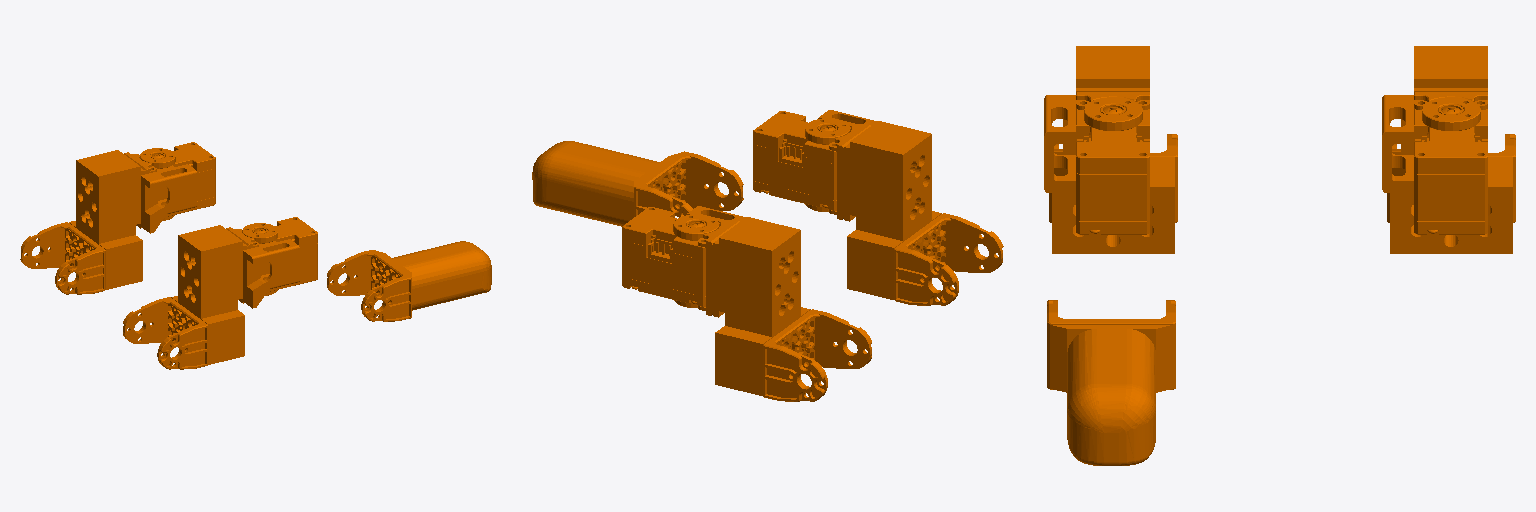
robot.urdf — onshape:
<robot name="onshape">
  <link name="palm_lower">
    <inertial>
      <origin xyz="0.0 0.0 0.0" rpy="0.0 -0.0 0.0"/>
      <mass value="0.237"/>
      <inertia ixx="0.000354094" ixy="-1.193e-06" ixz="-2.445e-06" iyy="0.000260915" iyz="-2.905e-06" izz="0.000529257"/>
    </inertial>
    <visual>
      <geometry>
        <mesh filename="../assets/leap/leap_hand/palm_lower.stl"/>
      </geometry>
      <origin xyz="-0.020095249652862544 0.025757756134899473 -0.034722403578460216" rpy="0.0 -0.0 0.0"/>
      <material name="palm_lower_material">
        <color rgba="0.6039215686274509 0.14901960784313725 0.14901960784313725 1.0"/>
      </material>
    </visual>
    <collision>
      <geometry>
        <mesh filename="../assets/leap/leap_hand/palm_lower.stl"/>
      </geometry>
      <origin xyz="-0.020095249652862544 0.025757756134899473 -0.034722403578460216" rpy="0.0 -0.0 0.0"/>
    </collision>
  </link>
  <link name="mcp_joint_long">
    <inertial>
      <origin xyz="0.0 0.0 0.0" rpy="0.0 -0.0 0.0"/>
      <mass value="0.044"/>
      <inertia ixx="1.1499e-05" ixy="3.049e-06" ixz="1.21e-07" iyy="7.796e-06" iyz="1.12e-07" izz="1.4759e-05"/>
    </inertial>
    <visual>
      <geometry>
        <mesh filename="custom_models/mcp_joint_long.stl"/>
      </geometry>
      <origin xyz="0.008406902261174496 0.0077662438597169954 0.014657354985032912" rpy="1.6375789613221e-15 -1.021047330249102e-30 1.7177968783327987e-31"/>
      <material name="mcp_joint_material">
        <color rgba="0.878 0.467 0.0 1.0"/>
      </material>
    </visual>
    <collision>
      <geometry>
        <mesh filename="custom_models/mcp_joint_long.stl"/>
      </geometry>
      <origin xyz="0.008406902261174496 0.0077662438597169954 0.014657354985032912" rpy="1.6375789613221e-15 -1.021047330249102e-30 1.7177968783327987e-31"/>
    </collision>
  </link>
  <link name="pip">
    <inertial>
      <origin xyz="0.0 0.0 0.0" rpy="0.0 -0.0 0.0"/>
      <mass value="0.032"/>
      <inertia ixx="4.798e-06" ixy="1.2e-08" ixz="4e-09" iyy="2.862e-06" iyz="1.1e-08" izz="4.234e-06"/>
    </inertial>
    <visual>
      <geometry>
        <mesh filename="../assets/leap/leap_hand/pip.stl"/>
      </geometry>
      <origin xyz="0.009643363092271328 0.0002999999999999895 0.0007840340104173765" rpy="-1.5707963267948966 -1.5707963267948963 0.0"/>
      <material name="pip_material">
        <color rgba="0.7490196078431373 0.7490196078431373 0.7490196078431373 1.0"/>
      </material>
    </visual>
    <collision>
      <geometry>
        <mesh filename="../assets/leap/leap_hand/pip.stl"/>
      </geometry>
      <origin xyz="0.009643363092271328 0.0002999999999999895 0.0007840340104173765" rpy="-1.5707963267948966 -1.5707963267948963 0.0"/>
    </collision>
  </link>
  <link name="dip">
    <inertial>
      <origin xyz="0.0 0.0 0.0" rpy="0.0 -0.0 0.0"/>
      <mass value="0.037"/>
      <inertia ixx="5.542e-06" ixy="-6.07e-07" ixz="-1.7e-08" iyy="5.727e-06" iyz="-2.3e-08" izz="6.682e-06"/>
    </inertial>
    <visual>
      <geometry>
        <mesh filename="../assets/leap/leap_hand/dip.stl"/>
      </geometry>
      <origin xyz="0.021133352895225003 -0.00843211914670488 0.00978508816209524" rpy="-3.141592653589793 4.507511124216441e-32 4.439548105392361e-32"/>
      <material name="dip_material">
        <color rgba="0.8666666666666667 0.8666666666666667 0.050980392156862744 1.0"/>
      </material>
    </visual>
    <collision>
      <geometry>
        <mesh filename="../assets/leap/leap_hand/dip.stl"/>
      </geometry>
      <origin xyz="0.021133352895225003 -0.00843211914670488 0.00978508816209524" rpy="-3.141592653589793 4.507511124216441e-32 4.439548105392361e-32"/>
    </collision>
  </link>
  <link name="fingertip">
    <inertial>
      <origin xyz="0.0 0.0 0.0" rpy="0.0 -0.0 0.0"/>
      <mass value="0.016"/>
      <inertia ixx="3.368e-06" ixy="1.15e-07" ixz="0.0" iyy="1.556e-06" iyz="0.0" izz="2.863e-06"/>
    </inertial>
    <visual>
      <geometry>
        <mesh filename="../assets/leap/leap_hand/fingertip.stl"/>
      </geometry>
      <origin xyz="0.013286424108533503 -0.006114238386541987 0.014499999999999498" rpy="3.141592653589793 1.1993117970061735e-33 4.439548105392361e-32"/>
      <material name="fingertip_material">
        <color rgba="0.8666666666666667 0.8666666666666667 0.050980392156862744 1.0"/>
      </material>
    </visual>
    <collision>
      <geometry>
        <mesh filename="../assets/leap/leap_hand/fingertip.stl"/>
      </geometry>
      <origin xyz="0.013286424108533503 -0.006114238386541987 0.014499999999999498" rpy="3.141592653589793 1.1993117970061735e-33 4.439548105392361e-32"/>
    </collision>
  </link>
  <link name="pip_4">
    <inertial>
      <origin xyz="0.0 0.0 0.0" rpy="0.0 -0.0 0.0"/>
      <mass value="0.032"/>
      <inertia ixx="4.798e-06" ixy="1.2e-08" ixz="4e-09" iyy="2.862e-06" iyz="1.1e-08" izz="4.234e-06"/>
    </inertial>
    <visual>
      <geometry>
        <mesh filename="../assets/leap/leap_hand/pip.stl"/>
      </geometry>
      <origin xyz="-0.005356636907728671 0.0002999999999999999 0.0007840340104173782" rpy="-1.5707963267948966 -1.5707963267948963 0.0"/>
      <material name="pip_material">
        <color rgba="0.7490196078431373 0.7490196078431373 0.7490196078431373 1.0"/>
      </material>
    </visual>
    <collision>
      <geometry>
        <mesh filename="../assets/leap/leap_hand/pip.stl"/>
      </geometry>
      <origin xyz="-0.005356636907728671 0.0002999999999999999 0.0007840340104173782" rpy="-1.5707963267948966 -1.5707963267948963 0.0"/>
    </collision>
  </link>
  <link name="thumb_pip">
    <inertial>
      <origin xyz="0.0 0.0 0.0" rpy="0.0 -0.0 0.0"/>
      <mass value="0.003"/>
      <inertia ixx="5.93e-07" ixy="0.0" ixz="0.0" iyy="5.49e-07" iyz="0.0" izz="2.24e-07"/>
    </inertial>
    <visual>
      <geometry>
        <mesh filename="../assets/leap/leap_hand/thumb_pip.stl"/>
      </geometry>
      <origin xyz="0.011961920770611187 -5.30825383648903e-16 -0.0158526489566642" rpy="1.5707963267948966 1.6050198443300153e-46 -3.9204996250525193e-59"/>
      <material name="thumb_pip_material">
        <color rgba="0.8666666666666667 0.8666666666666667 0.050980392156862744 1.0"/>
      </material>
    </visual>
    <collision>
      <geometry>
        <mesh filename="../assets/leap/leap_hand/thumb_pip.stl"/>
      </geometry>
      <origin xyz="0.011961920770611187 -5.30825383648903e-16 -0.0158526489566642" rpy="1.5707963267948966 1.6050198443300153e-46 -3.9204996250525193e-59"/>
    </collision>
  </link>
  <link name="thumb_dip">
    <inertial>
      <origin xyz="0.0 0.0 0.0" rpy="0.0 -0.0 0.0"/>
      <mass value="0.038"/>
      <inertia ixx="8.474e-06" ixy="2.41e-07" ixz="2.6e-08" iyy="3.841e-06" iyz="2.5e-08" izz="7.679e-06"/>
    </inertial>
    <visual>
      <geometry>
        <mesh filename="../assets/leap/leap_hand/thumb_dip.stl"/>
      </geometry>
      <origin xyz="0.043968715707239175 0.0579529529737092 -0.008628676449369476" rpy="1.94289029309401e-16 3.27515792264422e-15 1.112375852965736e-46"/>
      <material name="thumb_dip_material">
        <color rgba="0.8666666666666667 0.8666666666666667 0.050980392156862744 1.0"/>
      </material>
    </visual>
    <collision>
      <geometry>
        <mesh filename="../assets/leap/leap_hand/thumb_dip.stl"/>
      </geometry>
      <origin xyz="0.043968715707239175 0.0579529529737092 -0.008628676449369476" rpy="1.94289029309401e-16 3.27515792264422e-15 1.112375852965736e-46"/>
    </collision>
  </link>
  <link name="thumb_fingertip">
    <inertial>
      <origin xyz="0.0 0.0 0.0" rpy="0.0 -0.0 0.0"/>
      <mass value="0.049"/>
      <inertia ixx="2.0372e-05" ixy="-4.89e-07" ixz="-3e-08" iyy="4.336e-06" iyz="-9.7e-08" izz="1.9845e-05"/>
    </inertial>
    <visual>
      <geometry>
        <mesh filename="../assets/leap/leap_hand/thumb_fingertip.stl"/>
      </geometry>
      <origin xyz="0.06255953846266739 0.07845968291139699 0.048992911807332215" rpy="4.379057701015637e-47 -3.33066907387547e-16 1.2042408677791935e-46"/>
      <material name="thumb_fingertip_material">
        <color rgba="0.6039215686274509 0.14901960784313725 0.14901960784313725 1.0"/>
      </material>
    </visual>
    <collision>
      <geometry>
        <mesh filename="../assets/leap/leap_hand/thumb_fingertip.stl"/>
      </geometry>
      <origin xyz="0.06255953846266739 0.07845968291139699 0.048992911807332215" rpy="4.379057701015637e-47 -3.33066907387547e-16 1.2042408677791935e-46"/>
    </collision>
  </link>
  <link name="mcp_joint_2">
    <inertial>
      <origin xyz="0.0 0.0 0.0" rpy="0.0 -0.0 0.0"/>
      <mass value="0.044"/>
      <inertia ixx="1.1499e-05" ixy="3.049e-06" ixz="1.21e-07" iyy="7.796e-06" iyz="1.12e-07" izz="1.4759e-05"/>
    </inertial>
    <visual>
      <geometry>
        <mesh filename="../assets/leap/leap_hand/mcp_joint.stl"/>
      </geometry>
      <origin xyz="0.008406902261174496 0.0077662438597169954 0.014657354985032914" rpy="1.6375789613221e-15 -1.0076465469034e-30 2.1209300131419907e-61"/>
      <material name="mcp_joint_material">
        <color rgba="0.8666666666666667 0.8666666666666667 0.050980392156862744 1.0"/>
      </material>
    </visual>
    <collision>
      <geometry>
        <mesh filename="../assets/leap/leap_hand/mcp_joint.stl"/>
      </geometry>
      <origin xyz="0.008406902261174496 0.0077662438597169954 0.014657354985032914" rpy="1.6375789613221e-15 -1.0076465469034e-30 2.1209300131419907e-61"/>
    </collision>
  </link>
  <link name="pip_2">
    <inertial>
      <origin xyz="0.0 0.0 0.0" rpy="0.0 -0.0 0.0"/>
      <mass value="0.032"/>
      <inertia ixx="4.798e-06" ixy="1.2e-08" ixz="4e-09" iyy="2.862e-06" iyz="1.1e-08" izz="4.234e-06"/>
    </inertial>
    <visual>
      <geometry>
        <mesh filename="../assets/leap/leap_hand/pip.stl"/>
      </geometry>
      <origin xyz="0.009643363092271328 0.0002999999999999947 0.0007840340104173765" rpy="-1.5707963267948966 -1.5707963267948963 0.0"/>
      <material name="pip_material">
        <color rgba="0.7490196078431373 0.7490196078431373 0.7490196078431373 1.0"/>
      </material>
    </visual>
    <collision>
      <geometry>
        <mesh filename="../assets/leap/leap_hand/pip.stl"/>
      </geometry>
      <origin xyz="0.009643363092271328 0.0002999999999999947 0.0007840340104173765" rpy="-1.5707963267948966 -1.5707963267948963 0.0"/>
    </collision>
  </link>
  <link name="dip_2">
    <inertial>
      <origin xyz="0.0 0.0 0.0" rpy="0.0 -0.0 0.0"/>
      <mass value="0.037"/>
      <inertia ixx="5.542e-06" ixy="-6.07e-07" ixz="-1.7e-08" iyy="5.727e-06" iyz="-2.3e-08" izz="6.682e-06"/>
    </inertial>
    <visual>
      <geometry>
        <mesh filename="../assets/leap/leap_hand/dip.stl"/>
      </geometry>
      <origin xyz="0.021133352895225003 -0.008432119146704865 0.009785088162095237" rpy="-3.141592653589793 2.1146933785271956e-32 1.4408183216511869e-31"/>
      <material name="dip_material">
        <color rgba="0.8666666666666667 0.8666666666666667 0.050980392156862744 1.0"/>
      </material>
    </visual>
    <collision>
      <geometry>
        <mesh filename="../assets/leap/leap_hand/dip.stl"/>
      </geometry>
      <origin xyz="0.021133352895225003 -0.008432119146704865 0.009785088162095237" rpy="-3.141592653589793 2.1146933785271956e-32 1.4408183216511869e-31"/>
    </collision>
  </link>
  <link name="fingertip_2">
    <inertial>
      <origin xyz="0.0 0.0 0.0" rpy="0.0 -0.0 0.0"/>
      <mass value="0.016"/>
      <inertia ixx="3.368e-06" ixy="1.15e-07" ixz="0.0" iyy="1.556e-06" iyz="0.0" izz="2.863e-06"/>
    </inertial>
    <visual>
      <geometry>
        <mesh filename="../assets/leap/leap_hand/fingertip.stl"/>
      </geometry>
      <origin xyz="0.013286424108533496 -0.006114238386542001 0.014499999999999496" rpy="3.141592653589793 -4.317959788283594e-33 1.4408183216511869e-31"/>
      <material name="fingertip_material">
        <color rgba="0.8666666666666667 0.8666666666666667 0.050980392156862744 1.0"/>
      </material>
    </visual>
    <collision>
      <geometry>
        <mesh filename="../assets/leap/leap_hand/fingertip.stl"/>
      </geometry>
      <origin xyz="0.013286424108533496 -0.006114238386542001 0.014499999999999496" rpy="3.141592653589793 -4.317959788283594e-33 1.4408183216511869e-31"/>
    </collision>
  </link>
  <link name="mcp_joint_3_long">
    <inertial>
      <origin xyz="0.0 0.0 0.0" rpy="0.0 -0.0 0.0"/>
      <mass value="0.044"/>
      <inertia ixx="1.1499e-05" ixy="3.049e-06" ixz="1.21e-07" iyy="7.796e-06" iyz="1.12e-07" izz="1.4759e-05"/>
    </inertial>
    <visual>
      <geometry>
        <mesh filename="custom_models/mcp_joint_long.stl"/>
      </geometry>
      <origin xyz="0.0084069022611745 0.007766243859716996 0.014657354985032914" rpy="1.6375789613221e-15 -1.0059504988632627e-30 5.729641584552035e-32"/>
      <material name="mcp_joint_material">
        <color rgba="0.878 0.467 0.0 1.0"/>
      </material>
    </visual>
    <collision>
      <geometry>
        <mesh filename="custom_models/mcp_joint_long.stl"/>
      </geometry>
      <origin xyz="0.0084069022611745 0.007766243859716996 0.014657354985032914" rpy="1.6375789613221e-15 -1.0059504988632627e-30 5.729641584552035e-32"/>
    </collision>
  </link>
  <link name="pip_3">
    <inertial>
      <origin xyz="0.0 0.0 0.0" rpy="0.0 -0.0 0.0"/>
      <mass value="0.032"/>
      <inertia ixx="4.798e-06" ixy="1.2e-08" ixz="4e-09" iyy="2.862e-06" iyz="1.1e-08" izz="4.234e-06"/>
    </inertial>
    <visual>
      <geometry>
        <mesh filename="../assets/leap/leap_hand/pip.stl"/>
      </geometry>
      <origin xyz="0.009643363092271331 0.00029999999999998084 0.0007840340104173765" rpy="-1.5707963267948966 -1.5707963267948963 0.0"/>
      <material name="pip_material">
        <color rgba="0.7490196078431373 0.7490196078431373 0.7490196078431373 1.0"/>
      </material>
    </visual>
    <collision>
      <geometry>
        <mesh filename="../assets/leap/leap_hand/pip.stl"/>
      </geometry>
      <origin xyz="0.009643363092271331 0.00029999999999998084 0.0007840340104173765" rpy="-1.5707963267948966 -1.5707963267948963 0.0"/>
    </collision>
  </link>
  <link name="dip_3">
    <inertial>
      <origin xyz="0.0 0.0 0.0" rpy="0.0 -0.0 0.0"/>
      <mass value="0.037"/>
      <inertia ixx="5.542e-06" ixy="-6.07e-07" ixz="-1.7e-08" iyy="5.727e-06" iyz="-2.3e-08" izz="6.682e-06"/>
    </inertial>
    <visual>
      <geometry>
        <mesh filename="../assets/leap/leap_hand/dip.stl"/>
      </geometry>
      <origin xyz="0.021133352895225006 -0.008432119146704865 0.009785088162095237" rpy="-3.141592653589793 -1.4095651113919093e-33 1.5565411607615035e-32"/>
      <material name="dip_material">
        <color rgba="0.8666666666666667 0.8666666666666667 0.050980392156862744 1.0"/>
      </material>
    </visual>
    <collision>
      <geometry>
        <mesh filename="../assets/leap/leap_hand/dip.stl"/>
      </geometry>
      <origin xyz="0.021133352895225006 -0.008432119146704865 0.009785088162095237" rpy="-3.141592653589793 -1.4095651113919093e-33 1.5565411607615035e-32"/>
    </collision>
  </link>
  <link name="fingertip_3_long">
    <inertial>
      <origin xyz="0.0 0.0 0.0" rpy="0.0 -0.0 0.0"/>
      <mass value="0.016"/>
      <inertia ixx="3.368e-06" ixy="1.15e-07" ixz="0.0" iyy="1.556e-06" iyz="0.0" izz="2.863e-06"/>
    </inertial>
    <visual>
      <geometry>
        <mesh filename="custom_models/fingertip_long.stl"/>
      </geometry>
      <origin xyz="0.013286424108533501 -0.006114238386541987 0.0144999999999995" rpy="3.141592653589793 8.61707169505754e-33 1.5565411607615035e-32"/>
      <material name="fingertip_material">
        <color rgba="0.878 0.467 0.0 1.0"/>
      </material>
    </visual>
    <collision>
      <geometry>
        <mesh filename="custom_models/fingertip_long.stl"/>
      </geometry>
      <origin xyz="0.013286424108533501 -0.006114238386541987 0.0144999999999995" rpy="3.141592653589793 8.61707169505754e-33 1.5565411607615035e-32"/>
    </collision>
  </link>
  <joint name="1" type="revolute">
    <parent link="palm_lower"/>
    <child link="mcp_joint_long"/>
    <origin xyz="-0.007095249652862546 0.023057756134899472 -0.01872240357846022" rpy="1.570796326794895 1.5707963267948946 0.0"/>
    <axis xyz="0.0 0.0 -1.0"/>
    <limit effort="0.95" velocity="8.48" lower="-0.314" upper="2.23"/>
  </joint>
  <joint name="0" type="revolute">
    <parent link="mcp_joint_long"/>
    <child link="pip"/>
    <origin xyz="-0.012200000000000007713 0.053099999999999994982 0.014500000000000000736" rpy="-1.5707963267948966 -1.0065212660796337e-15 1.5707963267948943"/>
    <axis xyz="0.0 0.0 -1.0"/>
    <limit effort="0.95" velocity="8.48" lower="-1.047" upper="1.047"/>
  </joint>
  <joint name="2" type="revolute">
    <parent link="pip"/>
    <child link="dip"/>
    <origin xyz="0.014999999999999968 0.014299999999999905 -0.012999999999999824" rpy="1.570796326794896 -1.5707963267948963 0.0"/>
    <axis xyz="0.0 0.0 -1.0"/>
    <limit effort="0.95" velocity="8.48" lower="-0.506" upper="1.885"/>
  </joint>
  <joint name="3" type="revolute">
    <parent link="dip"/>
    <child link="fingertip"/>
    <origin xyz="-4.088058249557269e-09 -0.03610000421036737 0.0002000000000000786" rpy="4.5935029425113685e-17 -2.8730071914463795e-16 4.439548105392361e-32"/>
    <axis xyz="0.0 0.0 -1.0"/>
    <limit effort="0.95" velocity="8.48" lower="-0.366" upper="2.042"/>
  </joint>
  <joint name="12" type="revolute">
    <parent link="palm_lower"/>
    <child link="pip_4"/>
    <origin xyz="-0.06939524965286253 -0.0012422438651005258 -0.021622403578460216" rpy="-8.238176646493942e-17 1.5707963267948957 0.0"/>
    <axis xyz="0.0 0.0 -1.0"/>
    <limit effort="0.95" velocity="8.48" lower="-0.349" upper="2.094"/>
  </joint>
  <joint name="13" type="revolute">
    <parent link="pip_4"/>
    <child link="thumb_pip"/>
    <origin xyz="-2.7755575615628914e-17 0.014300000000000005 -0.013000000000000012" rpy="1.570796326794896 -1.5707963267948963 0.0"/>
    <axis xyz="0.0 0.0 -1.0"/>
    <limit effort="0.95" velocity="8.48" lower="-0.47" upper="2.443"/>
  </joint>
  <joint name="14" type="revolute">
    <parent link="thumb_pip"/>
    <child link="thumb_dip"/>
    <origin xyz="0.0 0.014499999999999966 -0.017000000000000053" rpy="-1.5707963267948966 1.6050198443300131e-46 -1.9721522630516625e-31"/>
    <axis xyz="0.0 0.0 -1.0"/>
    <limit effort="0.95" velocity="8.48" lower="-1.2" upper="1.9"/>
  </joint>
  <joint name="15" type="revolute">
    <parent link="thumb_dip"/>
    <child link="thumb_fingertip"/>
    <origin xyz="-1.249000902703301e-16 0.046599999999999864 0.0001999999999999771" rpy="1.506395849149178e-44 5.423418723393526e-31 3.141592653589793"/>
    <axis xyz="0.0 0.0 -1.0"/>
    <limit effort="0.95" velocity="8.48" lower="-1.34" upper="1.88"/>
  </joint>
  <joint name="5" type="revolute">
    <parent link="palm_lower"/>
    <child link="mcp_joint_2"/>
    <origin xyz="-0.007095249652862546 -0.022392243865100525 -0.01872240357846022" rpy="1.570796326794895 1.5707963267948946 0.0"/>
    <axis xyz="0.0 0.0 -1.0"/>
    <limit effort="0.95" velocity="8.48" lower="-0.314" upper="2.23"/>
  </joint>
  <joint name="4" type="revolute">
    <parent link="mcp_joint_2"/>
    <child link="pip_2"/>
    <origin xyz="-0.012200000000000008 0.038099999999999995 0.0145" rpy="-1.5707963267948966 -1.0065212660796337e-15 1.5707963267948943"/>
    <axis xyz="0.0 0.0 -1.0"/>
    <limit effort="0.95" velocity="8.48" lower="-1.047" upper="1.047"/>
  </joint>
  <joint name="6" type="revolute">
    <parent link="pip_2"/>
    <child link="dip_2"/>
    <origin xyz="0.014999999999999968 0.014299999999999905 -0.012999999999999824" rpy="1.570796326794896 -1.5707963267948963 0.0"/>
    <axis xyz="0.0 0.0 -1.0"/>
    <limit effort="0.95" velocity="8.48" lower="-0.506" upper="1.885"/>
  </joint>
  <joint name="7" type="revolute">
    <parent link="dip_2"/>
    <child link="fingertip_2"/>
    <origin xyz="-4.088058249557269e-09 -0.03610000421036737 0.0002000000000000786" rpy="4.5935029425113685e-17 -2.8730071914463795e-16 4.439548105392361e-32"/>
    <axis xyz="0.0 0.0 -1.0"/>
    <limit effort="0.95" velocity="8.48" lower="-0.366" upper="2.042"/>
  </joint>
  <joint name="9" type="revolute">
    <parent link="palm_lower"/>
    <child link="mcp_joint_3_long"/>
    <origin xyz="-0.007095249652862546 -0.06784224386510052 -0.01872240357846022" rpy="1.570796326794895 1.5707963267948946 0.0"/>
    <axis xyz="0.0 0.0 -1.0"/>
    <limit effort="0.95" velocity="8.48" lower="-0.314" upper="2.23"/>
  </joint>
  <joint name="8" type="revolute">
    <parent link="mcp_joint_3_long"/>
    <child link="pip_3"/>
    <origin xyz="-0.012200000000000007713 0.053099999999999994982 0.014500000000000000736" rpy="-1.5707963267948966 -1.0065212660796337e-15 1.5707963267948943"/>
    <axis xyz="0.0 0.0 -1.0"/>
    <limit effort="0.95" velocity="8.48" lower="-1.047" upper="1.047"/>
  </joint>
  <joint name="10" type="revolute">
    <parent link="pip_3"/>
    <child link="dip_3"/>
    <origin xyz="0.014999999999999968 0.014299999999999905 -0.012999999999999824" rpy="1.570796326794896 -1.5707963267948963 0.0"/>
    <axis xyz="0.0 0.0 -1.0"/>
    <limit effort="0.95" velocity="8.48" lower="-0.506" upper="1.885"/>
  </joint>
  <joint name="11" type="revolute">
    <parent link="dip_3"/>
    <child link="fingertip_3_long"/>
    <origin xyz="-4.088058249557269e-09 -0.03610000421036737 0.0002000000000000786" rpy="4.5935029425113685e-17 -2.8730071914463795e-16 4.439548105392361e-32"/>
    <axis xyz="0.0 0.0 -1.0"/>
    <limit effort="0.95" velocity="8.48" lower="-0.366" upper="2.042"/>
  </joint>
</robot>

--- Render facts (derived) ---
Views: 3 orthographic renders of the robot side by side, from view 1: azimuth 30°, elevation 25°; view 2: azimuth 150°, elevation 25°; view 3: azimuth 270°, elevation 25°.
Model onshape with 17 links and 16 joints (16 revolute), rooted at palm_lower, posed every joint at zero.
Visible links, largest first — view 1: mcp_joint_long, mcp_joint_3_long, fingertip_3_long; view 2: mcp_joint_long, mcp_joint_3_long, fingertip_3_long; view 3: mcp_joint_long, mcp_joint_3_long, fingertip_3_long.
Link boxes in pixels (x1,y1,x2,y2): mcp_joint_long: (20, 142, 215, 294); mcp_joint_3_long: (123, 217, 317, 369); fingertip_3_long: (327, 241, 491, 321); mcp_joint_long: (622, 206, 871, 401); mcp_joint_3_long: (753, 110, 1003, 305); fingertip_3_long: (532, 141, 743, 226); mcp_joint_long: (1382, 46, 1515, 253); mcp_joint_3_long: (1044, 46, 1177, 253); fingertip_3_long: (1047, 300, 1175, 465).
Bounding box of the posed robot: 0.1766 × 0.1267 × 0.0549 m (x, y, z).
Meshes: 10 distinct files referenced, 3 mesh visuals loaded (2 binary STL); not drawn: 14 (reference not matched to a file when rendering).